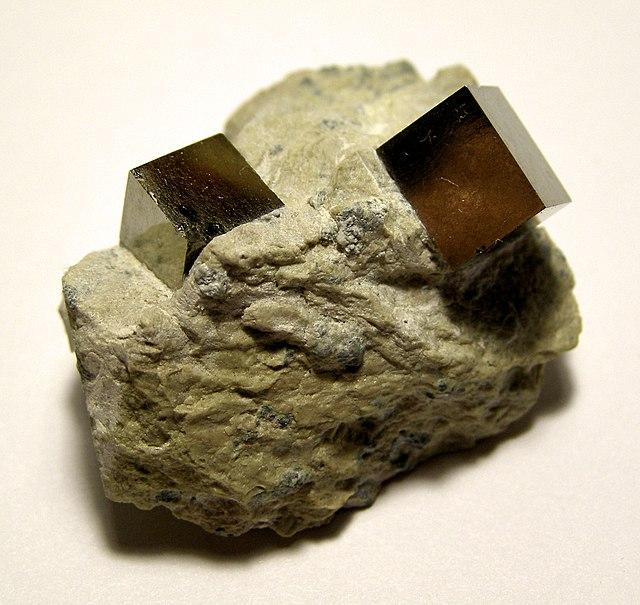pyrite: (50, 48, 582, 551)
